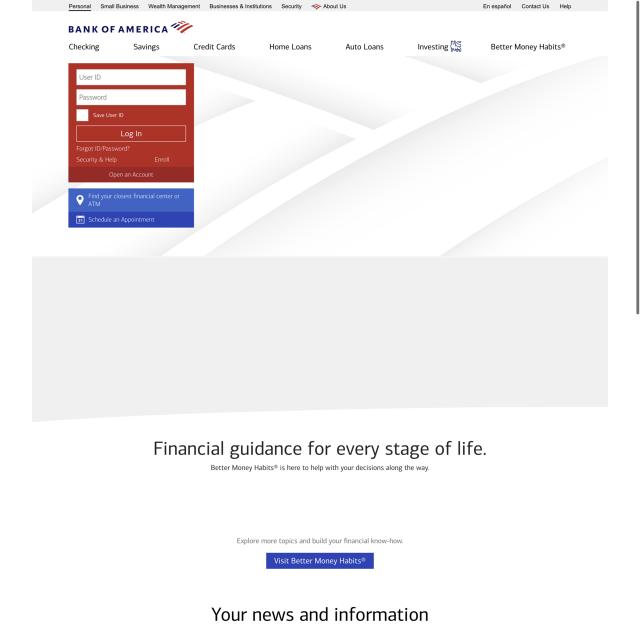input: (76, 88, 186, 105), (76, 70, 186, 86)
logo: (65, 19, 198, 36)
navigation: (66, 38, 569, 57), (31, 0, 606, 11)
